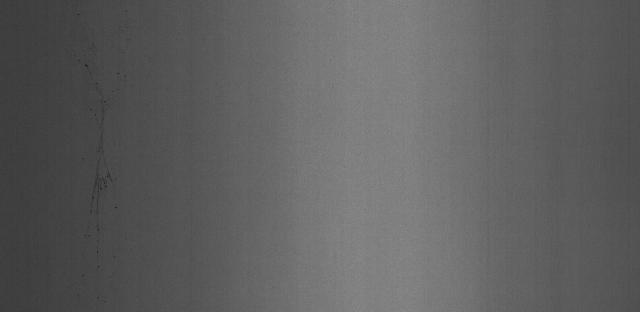water_spot: (74, 60, 125, 228)
